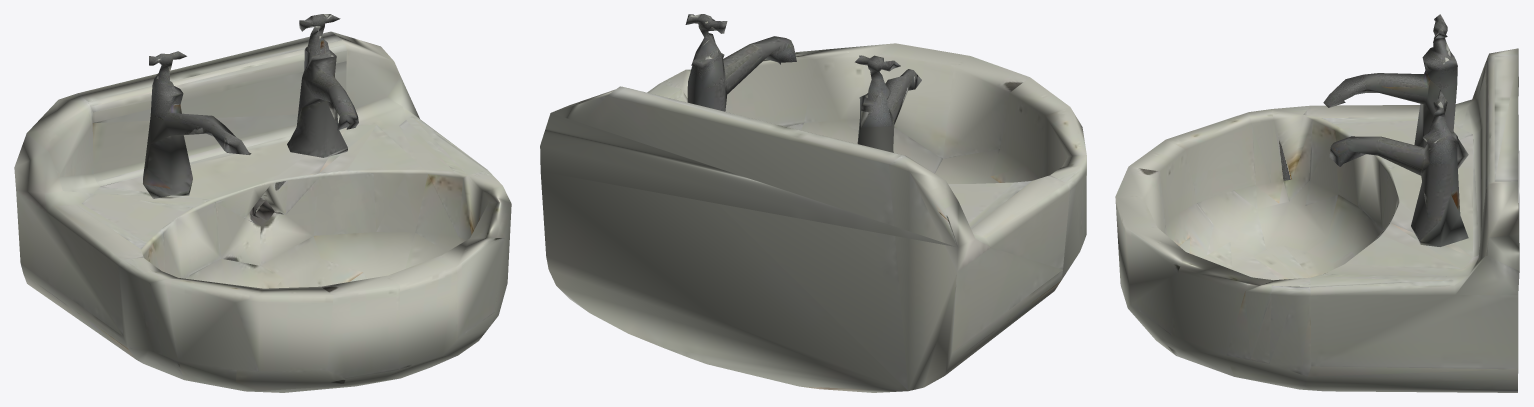
The model's file is cell_sink.glb.
3 views of the same model, side by side, from view 1: azimuth 30°, elevation 25°; view 2: azimuth 150°, elevation 25°; view 3: azimuth 270°, elevation 25° (orthographic). The views are drawn at different scales.
Bounding box in the file's own units: 0.48 × 0.3525 × 0.4395.
Materials: 1 (1 with a texture image).
